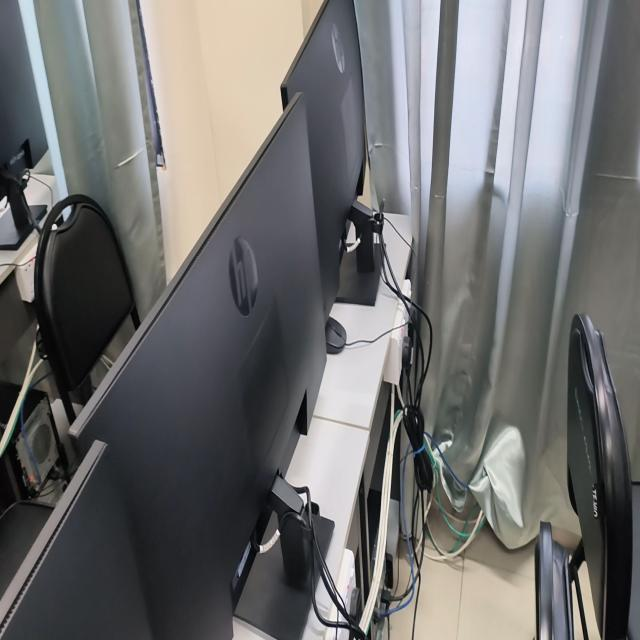Chair: (34, 195, 140, 423), (567, 315, 632, 639)
Monitor: (73, 94, 327, 639), (0, 441, 152, 639), (281, 0, 366, 320), (0, 0, 47, 164)
Mouse: (325, 316, 346, 353)
